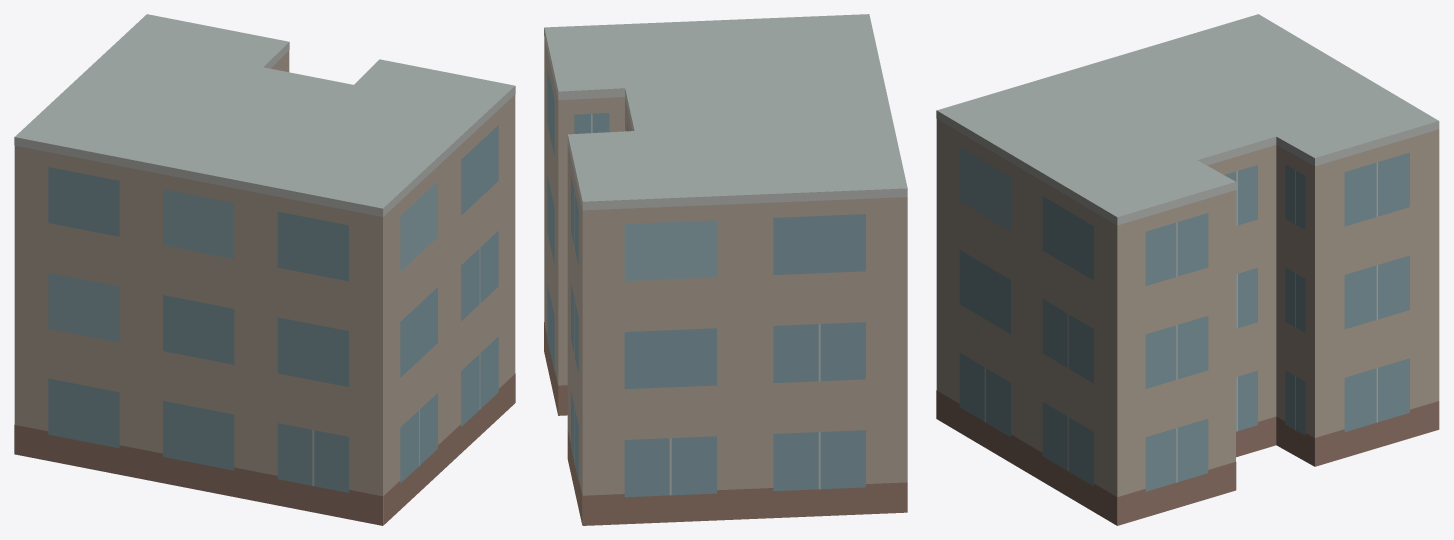
File: survey-upis-32719409.glb
3 renders of one model, left to right at view 1: azimuth 30°, elevation 25°; view 2: azimuth 150°, elevation 25°; view 3: azimuth 270°, elevation 25°, orthographic. The views are drawn at different scales.
Parts seen in each view (by area): view 1: survey-upis-32719409.tmp; view 2: survey-upis-32719409.tmp; view 3: survey-upis-32719409.tmp.
Boxes of the visible parts, <box> form: survey-upis-32719409.tmp: <box>14,14,515,525</box>; survey-upis-32719409.tmp: <box>544,14,907,525</box>; survey-upis-32719409.tmp: <box>936,14,1439,525</box>.
Size of the model in its own units: 12.94 by 9.15 by 13.52.
